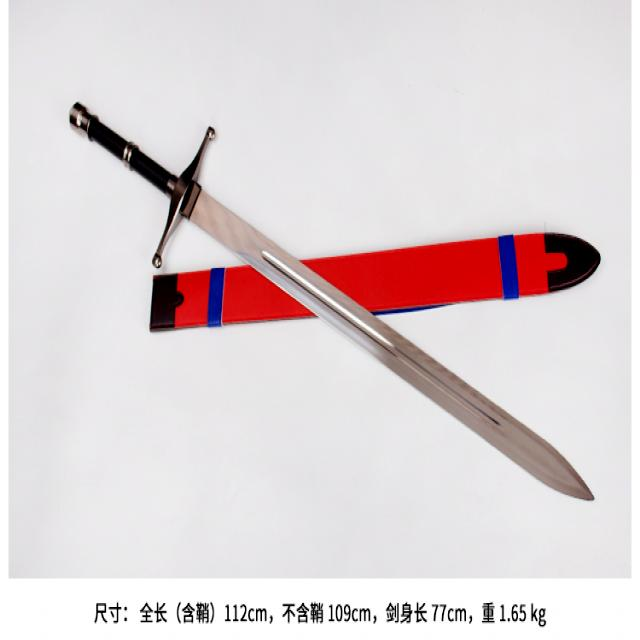long sword: (66, 89, 599, 505)
